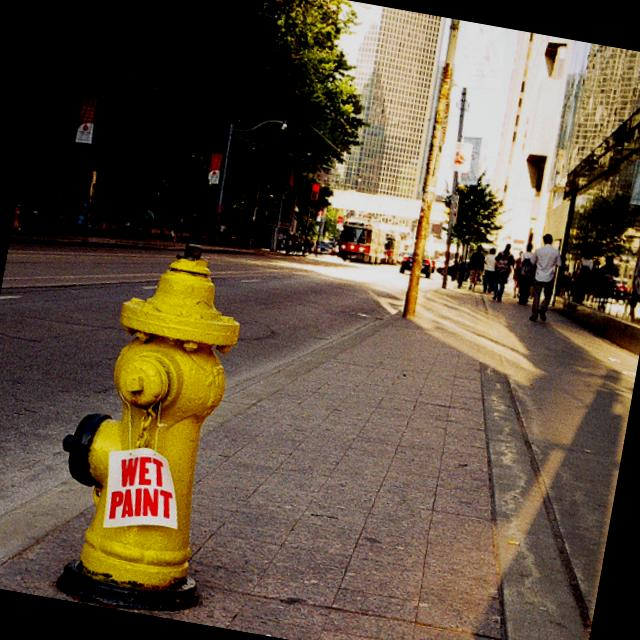Vehicle: (334, 219, 388, 267), (398, 248, 435, 279), (436, 261, 455, 276)
